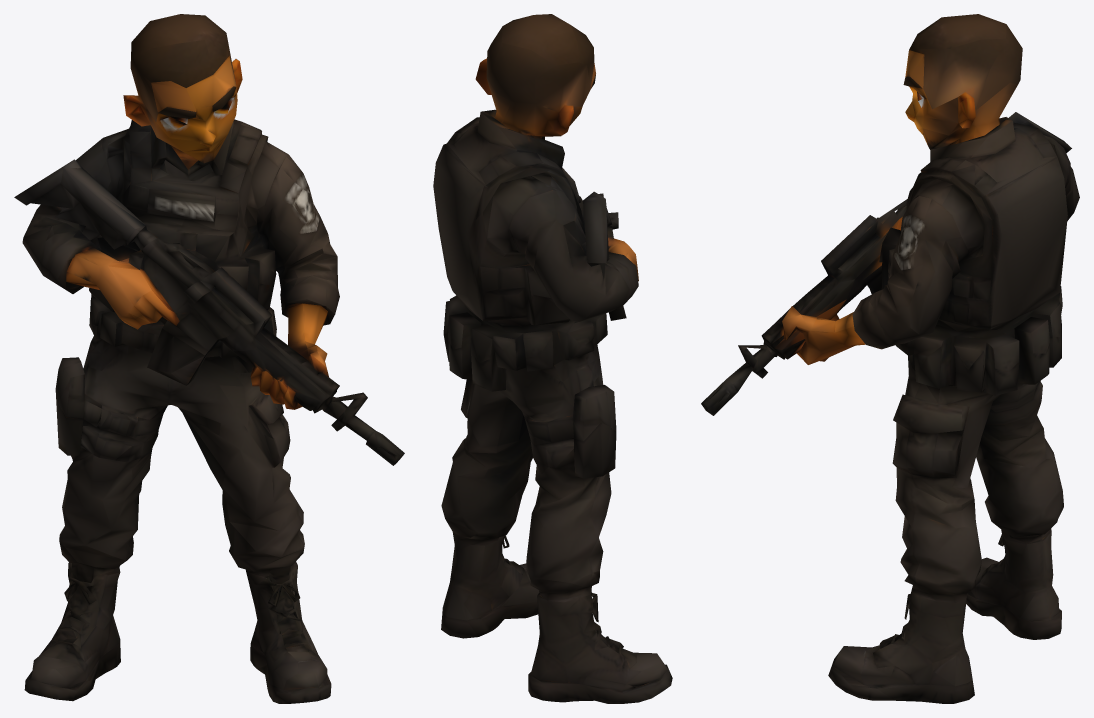
File: demo_warden_01.glb
3 renders of one model, left to right at view 1: azimuth 30°, elevation 25°; view 2: azimuth 150°, elevation 25°; view 3: azimuth 270°, elevation 25°, orthographic. The views are drawn at different scales.
Visible parts, largest first — view 1: node_0; view 2: node_0; view 3: node_0.
Boxes of the visible parts, bbox=[...] form: node_0: bbox=[14, 14, 404, 703]; node_0: bbox=[433, 14, 672, 703]; node_0: bbox=[701, 14, 1079, 703].
Size of the model in its own units: 0.4598 by 1.07 by 0.5773.
1 material, 1 textured.
